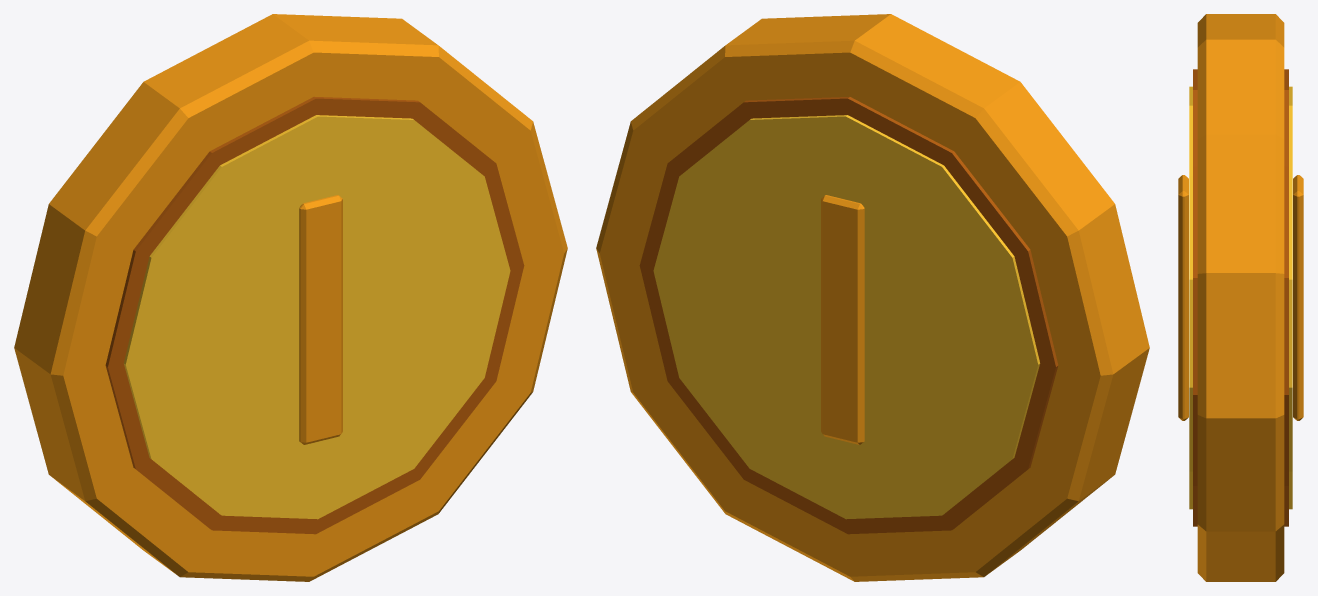
File: moeda-blockie.obj
3 renders of one model, left to right at view 1: azimuth 30°, elevation 25°; view 2: azimuth 150°, elevation 25°; view 3: azimuth 270°, elevation 25°, orthographic. The views are drawn at different scales.
Visible parts, largest first — view 1: moeda-blockie; view 2: moeda-blockie; view 3: moeda-blockie.
Boxes of the visible parts, <box> form: moeda-blockie: <box>14,14,567,581</box>; moeda-blockie: <box>596,14,1149,581</box>; moeda-blockie: <box>1178,14,1303,581</box>.
Size of the model in its own units: 1.64 by 1.64 by 0.36.
1 material, 1 textured.
